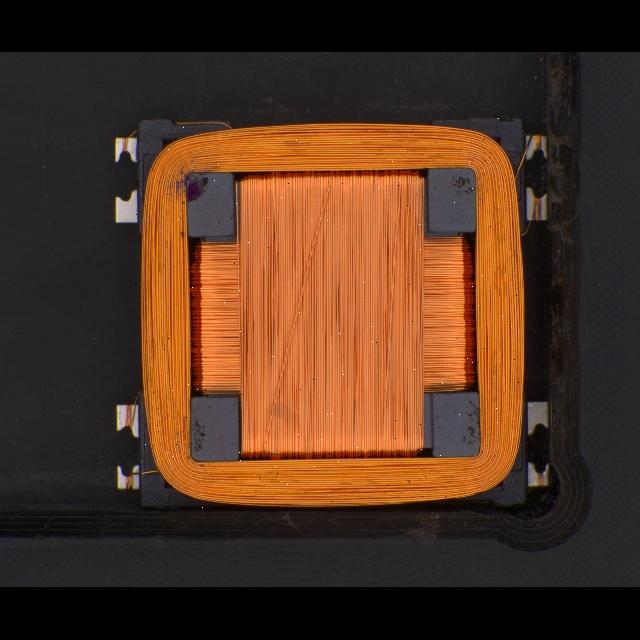Winding_Z: (133, 118, 528, 508)
